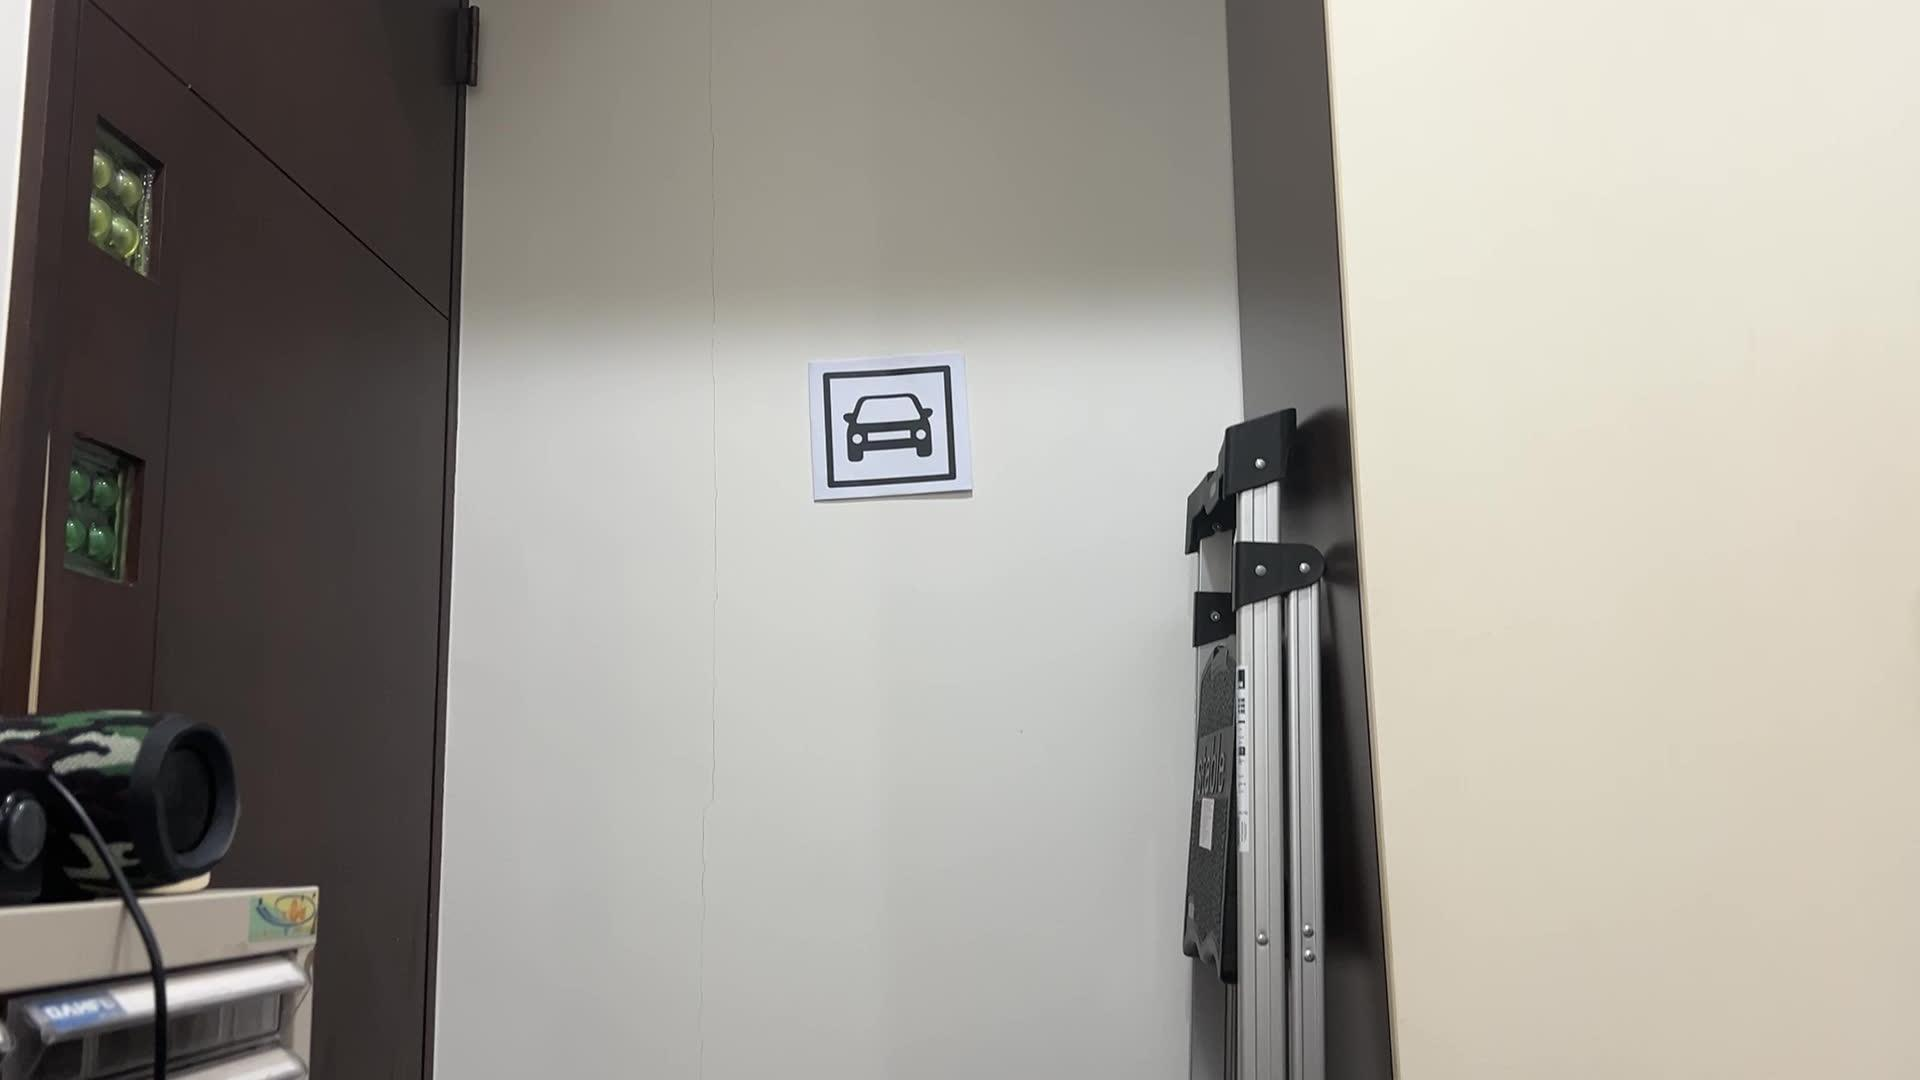car_img: (822, 364, 957, 489)
